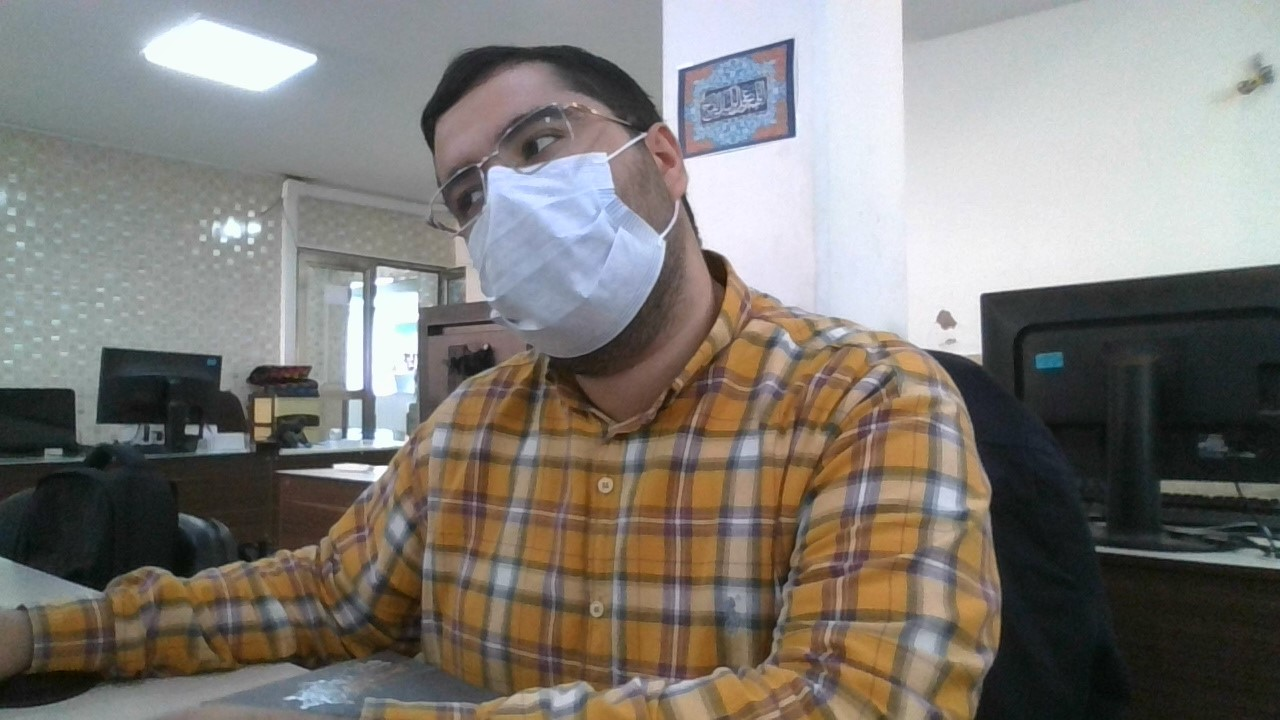Mask: (464, 165, 684, 360)
